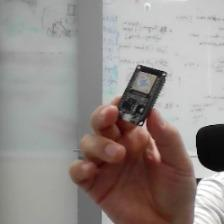esp32: (114, 60, 170, 128)
